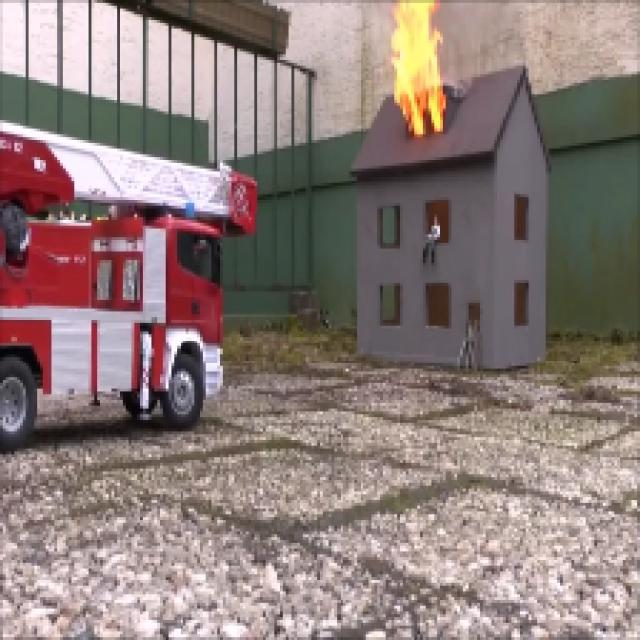fire: (387, 2, 452, 144)
